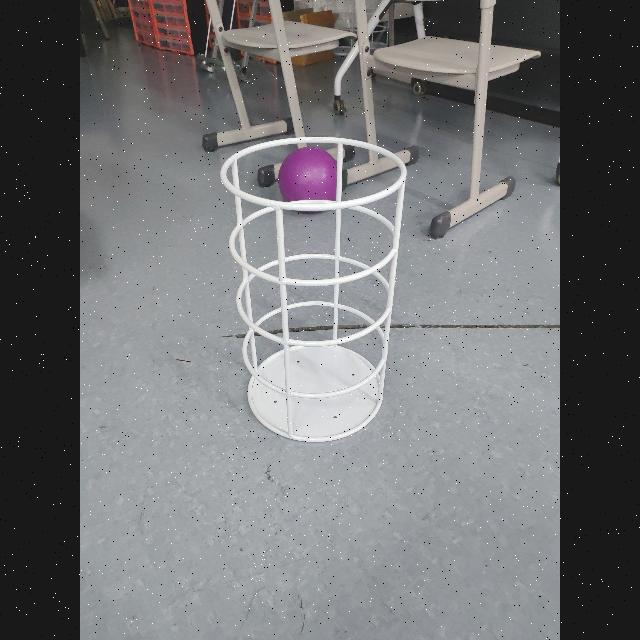S: (218, 135, 408, 447)
